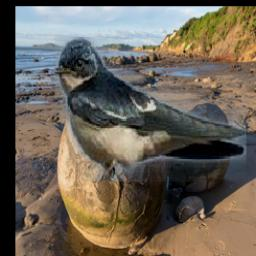Swallow: (55, 37, 246, 182)
